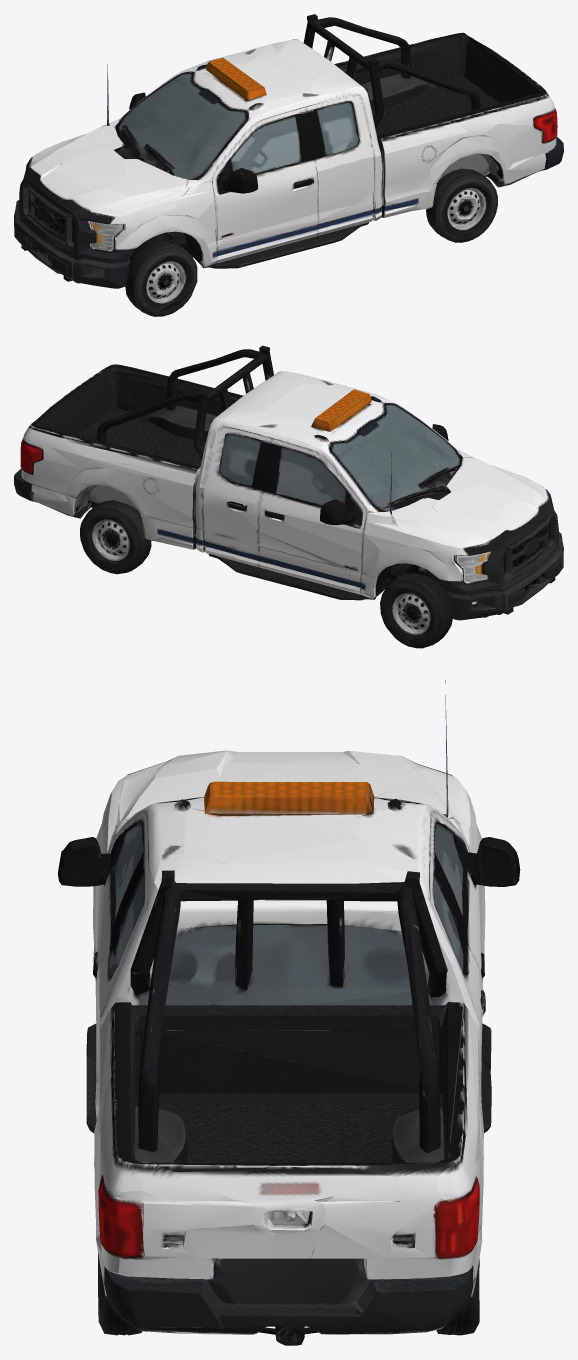
Rendered from camioneta.glb.
3 renders of one model, top to bottom at view 1: azimuth 30°, elevation 25°; view 2: azimuth 150°, elevation 25°; view 3: azimuth 270°, elevation 25°, orthographic. The views are drawn at different scales.
Bounding box in the file's own units: 1.9 × 0.7184 × 0.7794.
Materials: 1 (1 with a texture image).
